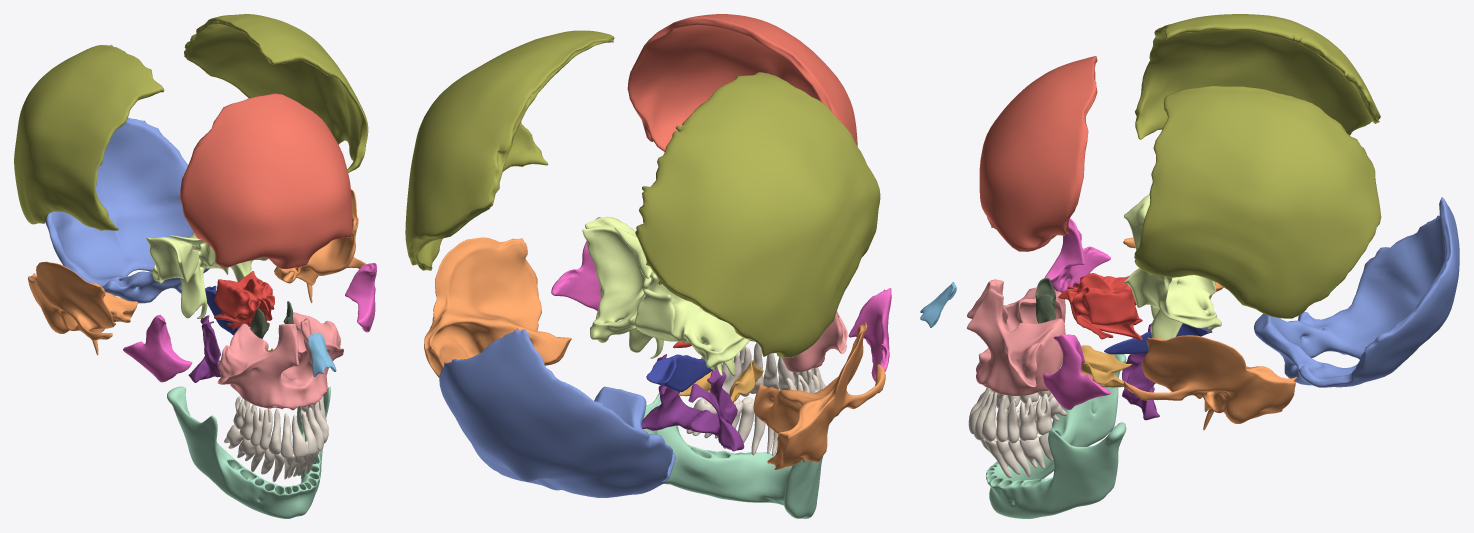
The model's file is exploded-skull.glb.
3 renders of one model, left to right at view 1: azimuth 30°, elevation 25°; view 2: azimuth 150°, elevation 25°; view 3: azimuth 270°, elevation 25°, orthographic. The views are drawn at different scales.
Visible parts, largest first — view 1: Frontal bone, Parietal bone.r, Occipital bone, Parietal bone.l, Maxilla bone, Temporal bones, Mandible bone, Sphenoid bone, Zygomatic bones, Ethmoid Bone, Palatine bone, Upper medial incisors (+7 smaller); view 2: Parietal bone.r, Occipital bone, Parietal bone.l, Temporal bones, Frontal bone, Sphenoid bone, Mandible bone, Palatine bone, Zygomatic bones, Vomer, Maxilla bone, Inferior nasal concha bones; view 3: Parietal bone.l, Occipital bone, Parietal bone.r, Frontal bone, Mandible bone, Temporal bones, Maxilla bone, Sphenoid bone, Zygomatic bones, Ethmoid Bone, Inferior nasal concha bones, Palatine bone (+5 smaller).
Part boxes in pixels (box(x1,y1,x2,y2)): Frontal bone: box(180, 93, 352, 271); Parietal bone.r: box(14, 45, 164, 230); Occipital bone: box(45, 117, 209, 303); Parietal bone.l: box(184, 14, 368, 172); Maxilla bone: box(217, 312, 343, 410); Temporal bones: box(28, 189, 366, 355); Mandible bone: box(167, 386, 330, 518); Sphenoid bone: box(146, 230, 267, 318); Zygomatic bones: box(123, 263, 376, 382); Ethmoid Bone: box(214, 271, 274, 330); Palatine bone: box(188, 315, 220, 382); Upper medial incisors: box(291, 412, 317, 457); Parietal bone.r: box(635, 72, 880, 357); Occipital bone: box(439, 328, 675, 497); Parietal bone.l: box(405, 30, 614, 270); Temporal bones: box(424, 237, 885, 470); Frontal bone: box(627, 14, 857, 151); Sphenoid bone: box(582, 216, 749, 376); Mandible bone: box(618, 389, 828, 518); Palatine bone: box(641, 354, 744, 451); Zygomatic bones: box(551, 217, 891, 381); Vomer: box(646, 354, 712, 392); Maxilla bone: box(750, 311, 847, 372); Inferior nasal concha bones: box(678, 357, 763, 402); Parietal bone.l: box(1134, 85, 1381, 318); Occipital bone: box(1254, 197, 1459, 387); Parietal bone.r: box(1135, 14, 1380, 139); Frontal bone: box(979, 56, 1097, 251); Mandible bone: box(986, 354, 1126, 518); Temporal bones: box(1123, 237, 1297, 430); Maxilla bone: box(967, 279, 1065, 395); Sphenoid bone: box(1124, 194, 1221, 340); Zygomatic bones: box(1043, 218, 1110, 409); Ethmoid Bone: box(1058, 273, 1142, 340); Inferior nasal concha bones: box(1081, 345, 1131, 387); Palatine bone: box(1122, 323, 1159, 420).
Bounding box in the file's own units: 0.2285 × 0.2813 × 0.3038.
